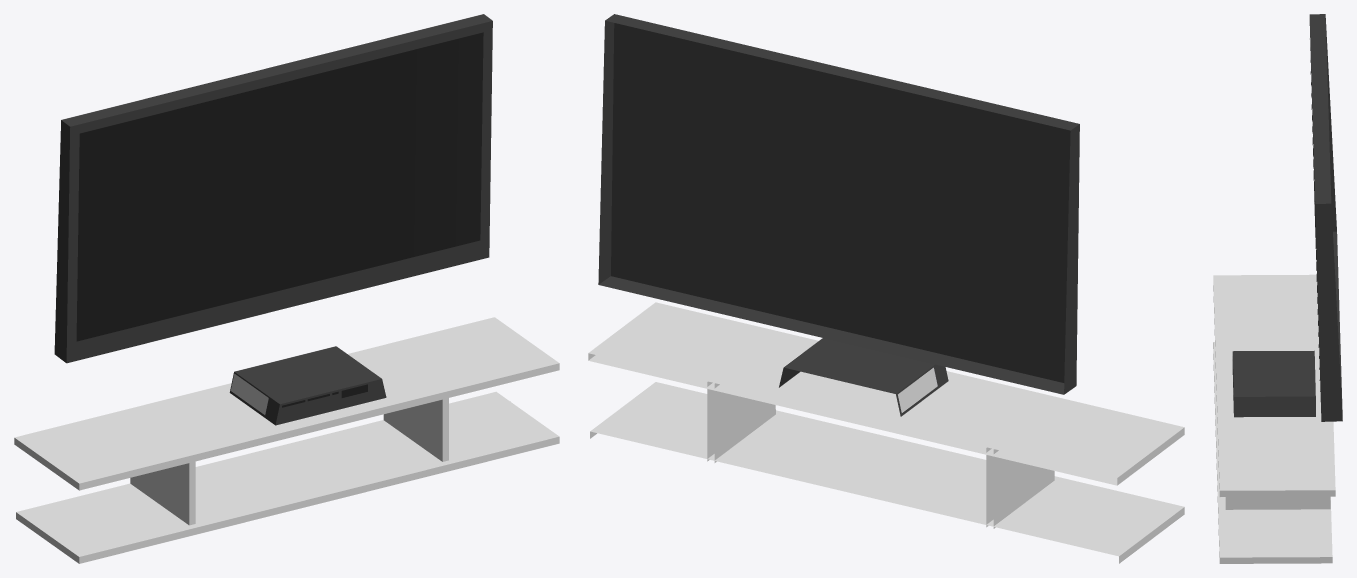
The model's file is LEDRack2.fbx.
3 views of the same model, side by side, from view 1: azimuth 30°, elevation 25°; view 2: azimuth 150°, elevation 25°; view 3: azimuth 270°, elevation 25° (orthographic). The views are drawn at different scales.
Visible parts, largest first — view 1: LEDRack2; view 2: LEDRack2; view 3: LEDRack2.
Part boxes in pixels (x1=…): LEDRack2: x1=14, y1=14, x2=559, y2=563; LEDRack2: x1=588, y1=14, x2=1184, y2=563; LEDRack2: x1=1213, y1=14, x2=1342, y2=563.
Bounding box in the file's own units: 83.81 × 64.12 × 21.28.
